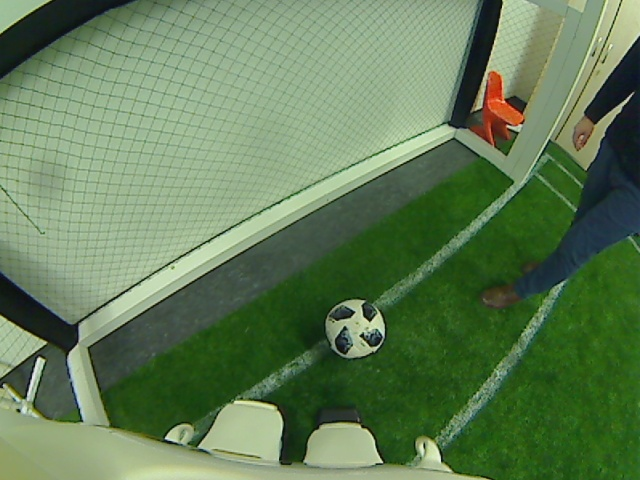ball: (323, 295, 386, 360)
